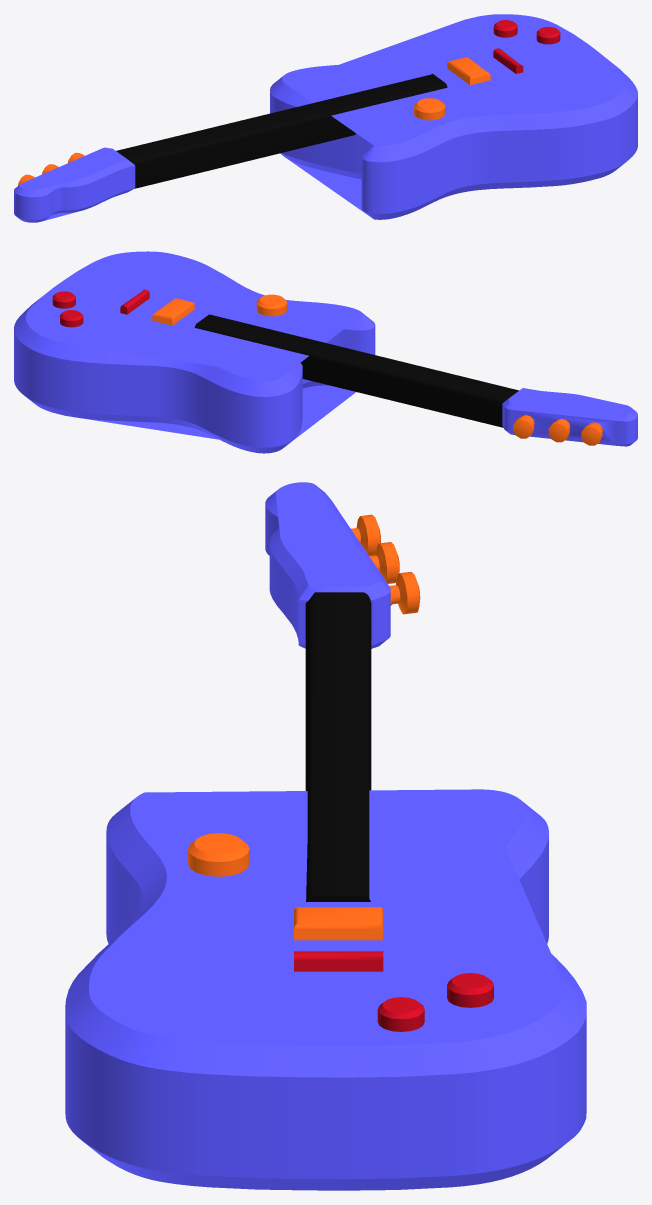
Rendered from Guitar.fbx.
The picture shows the model from 3 angles, top to bottom: view 1: azimuth 30°, elevation 25°; view 2: azimuth 150°, elevation 25°; view 3: azimuth 270°, elevation 25°; orthographic projection. The views are drawn at different scales.
Parts seen in each view (by area): view 1: Fill_3, Cube_5, Fill, Cube_6, Cylinder_2, Cylinder_1, Cylinder, Cube_7; view 2: Fill_3, Cube_5, Fill, Cube_6, Cylinder_2, Cylinder_1, Cube_7, Cylinder; view 3: Fill_3, Cube_5, Fill, Cube_6, Cylinder_2, Cube_7, Cylinder_1, Cylinder.
Part boxes in pixels (x1,y1,x2,y2): Fill_3: (270, 14, 637, 219); Cube_5: (116, 73, 447, 188); Fill: (14, 147, 135, 222); Cube_6: (447, 57, 490, 85); Cylinder_2: (414, 98, 445, 120); Cylinder_1: (536, 26, 560, 44); Cylinder: (493, 20, 517, 37); Cube_7: (493, 48, 523, 73); Fill_3: (14, 251, 375, 453); Cube_5: (194, 314, 518, 427); Fill: (502, 388, 637, 446); Cube_6: (152, 298, 194, 325); Cylinder_2: (256, 294, 287, 316); Cylinder_1: (52, 291, 75, 308); Cube_7: (120, 289, 149, 314); Cylinder: (60, 310, 83, 327); Fill_3: (65, 789, 586, 1190); Cube_5: (305, 592, 371, 901); Fill: (265, 482, 420, 648); Cube_6: (294, 907, 383, 940); Cylinder_2: (188, 833, 249, 876); Cube_7: (294, 951, 383, 971); Cylinder_1: (377, 997, 424, 1031); Cylinder: (447, 973, 493, 1007).
Bounding box in the file's own units: 285 × 38.61 × 111.
